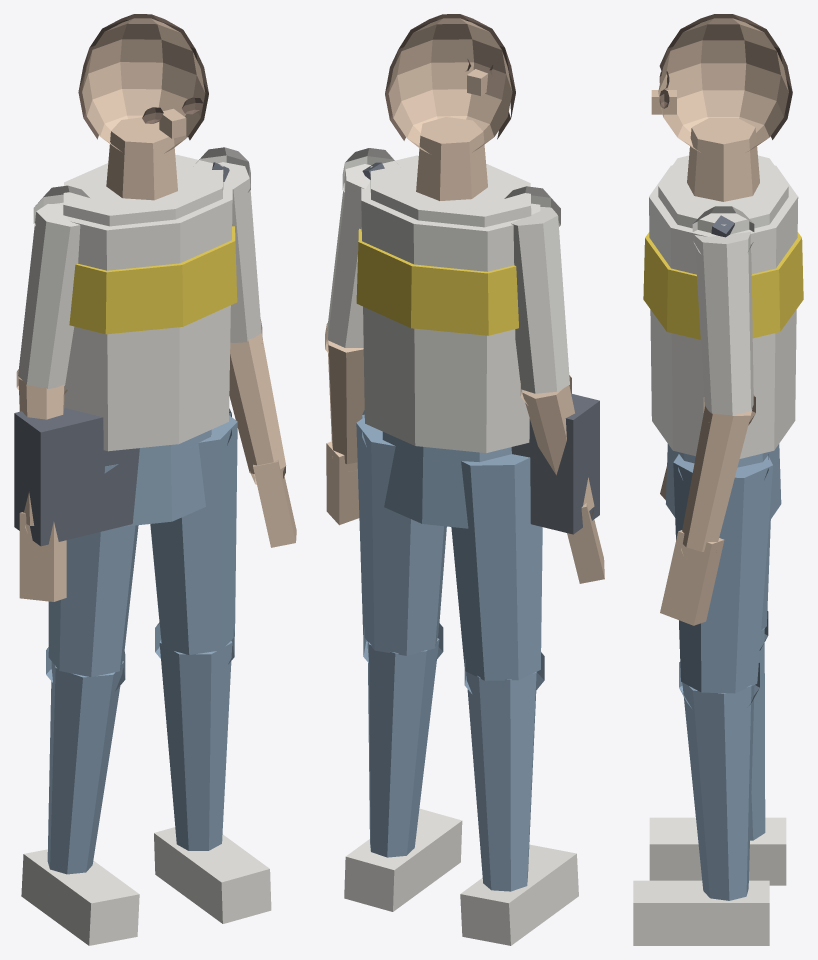
File: low-poly-character-figures-medic-standing-c9e96efa.glb
3 views of the same model, side by side, from view 1: azimuth 30°, elevation 25°; view 2: azimuth 150°, elevation 25°; view 3: azimuth 270°, elevation 25° (orthographic).
Visible parts, largest first — view 1: medic-standing; view 2: medic-standing; view 3: medic-standing.
Boxes of the visible parts, x1,y1,x2,y2 form: medic-standing: (14, 14, 296, 945); medic-standing: (325, 14, 604, 945); medic-standing: (633, 14, 803, 945).
Size of the model in its own units: 0.5494 by 1.67 by 0.2901.
